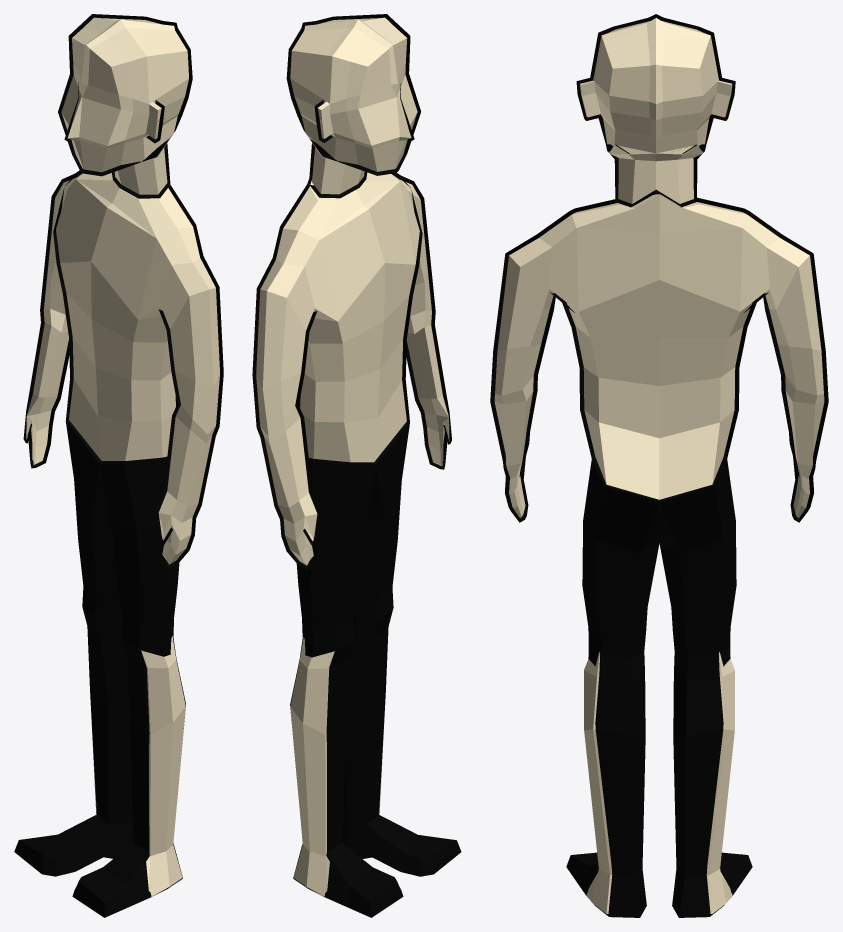
The model's file is dollAssemblyConnected.fbx.
3 views of the same model, side by side, from view 1: azimuth 30°, elevation 25°; view 2: azimuth 150°, elevation 25°; view 3: azimuth 270°, elevation 25° (orthographic). The views are drawn at different scales.
Parts seen in each view (by area): view 1: body.002, body.004, body.003; view 2: body.002, body.004, body.003; view 3: body.002, body.004, body.003.
Boxes of the visible parts, bbox=[...] form: body.002: bbox=[23, 170, 223, 568]; body.004: bbox=[14, 420, 185, 917]; body.003: bbox=[58, 14, 192, 198]; body.002: bbox=[252, 172, 451, 569]; body.004: bbox=[290, 421, 461, 917]; body.003: bbox=[286, 14, 420, 198]; body.002: bbox=[490, 193, 828, 522]; body.004: bbox=[566, 452, 752, 917]; body.003: bbox=[576, 14, 735, 207].
Size of the model in its own units: 102 by 671 by 233.
